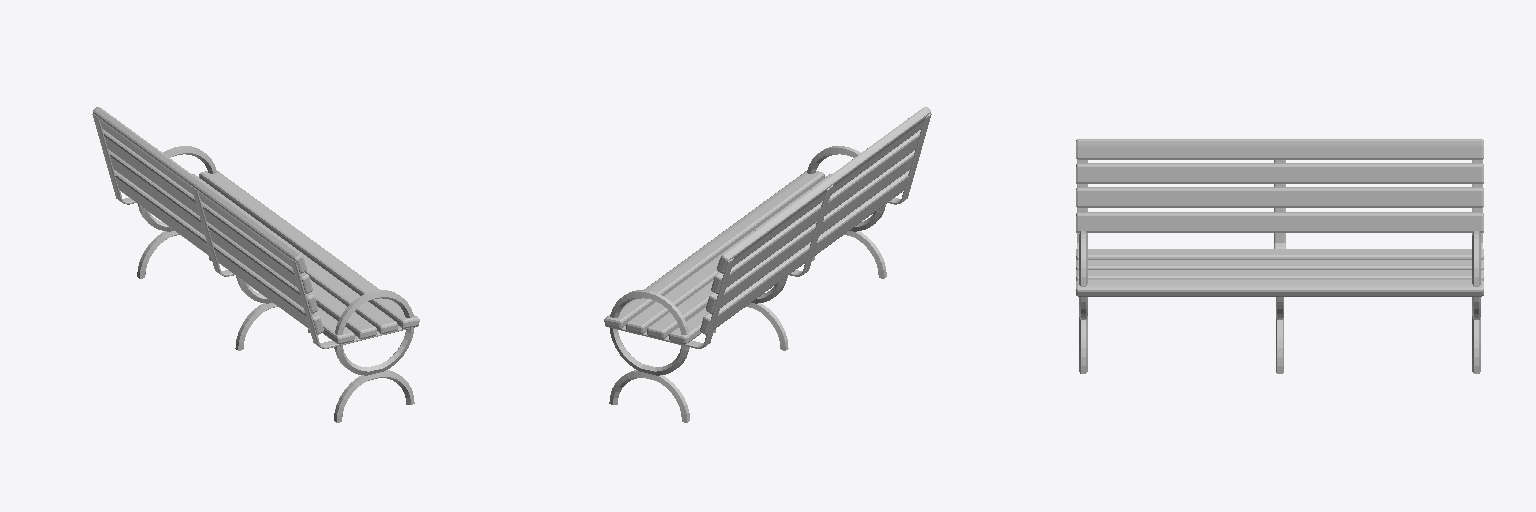
File: Sitting.obj
3 views of the same model, side by side, from view 1: azimuth 30°, elevation 25°; view 2: azimuth 150°, elevation 25°; view 3: azimuth 270°, elevation 25° (orthographic).
Visible parts, largest first — view 1: polySurface38.001; view 2: polySurface38.001; view 3: polySurface38.001.
Part boxes in pixels (left/top/right/bottom): polySurface38.001: left=92, top=107, right=419, bottom=422; polySurface38.001: left=604, top=107, right=931, bottom=422; polySurface38.001: left=1076, top=139, right=1483, bottom=373.
Bounding box in the file's own units: 7.06 × 9.62 × 19.98.